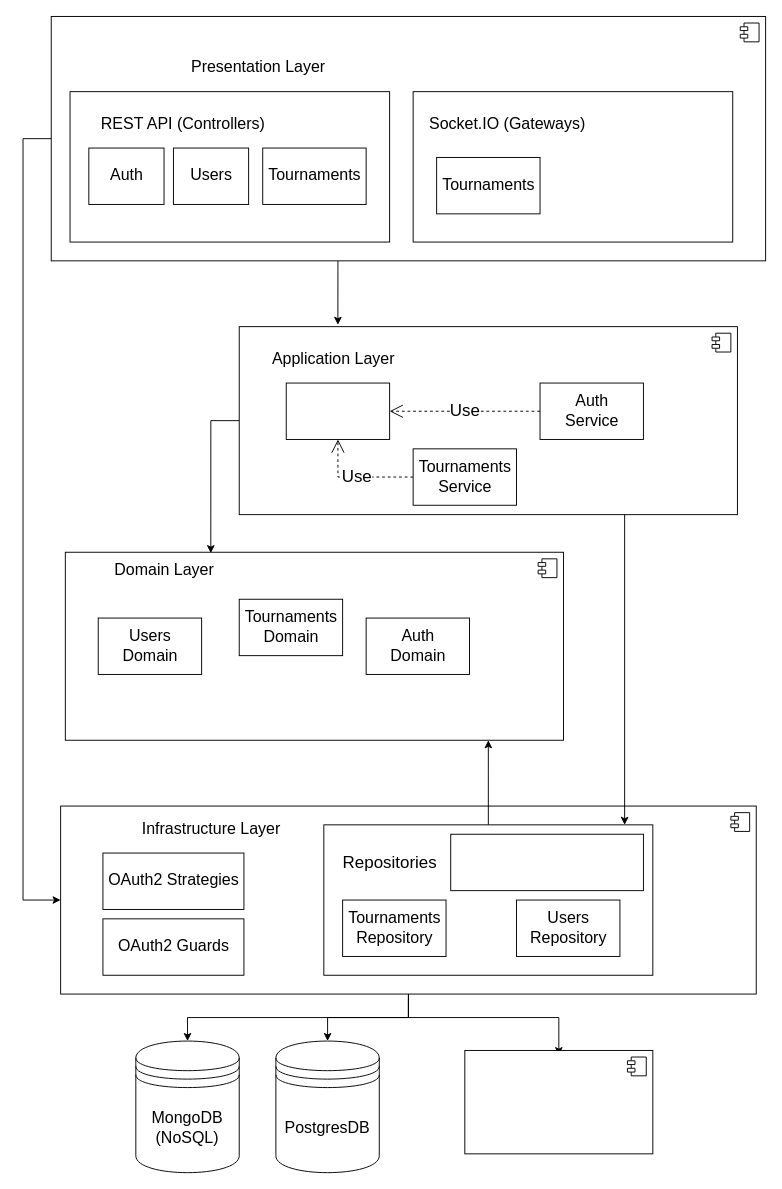
This 782x1189 diagram has some shape labels left out. Each missing label, with the centre of its shape:
OAuth2: [558,1102]
Tournaments Members Repository: [546,862]
Users Service: [337,410]
